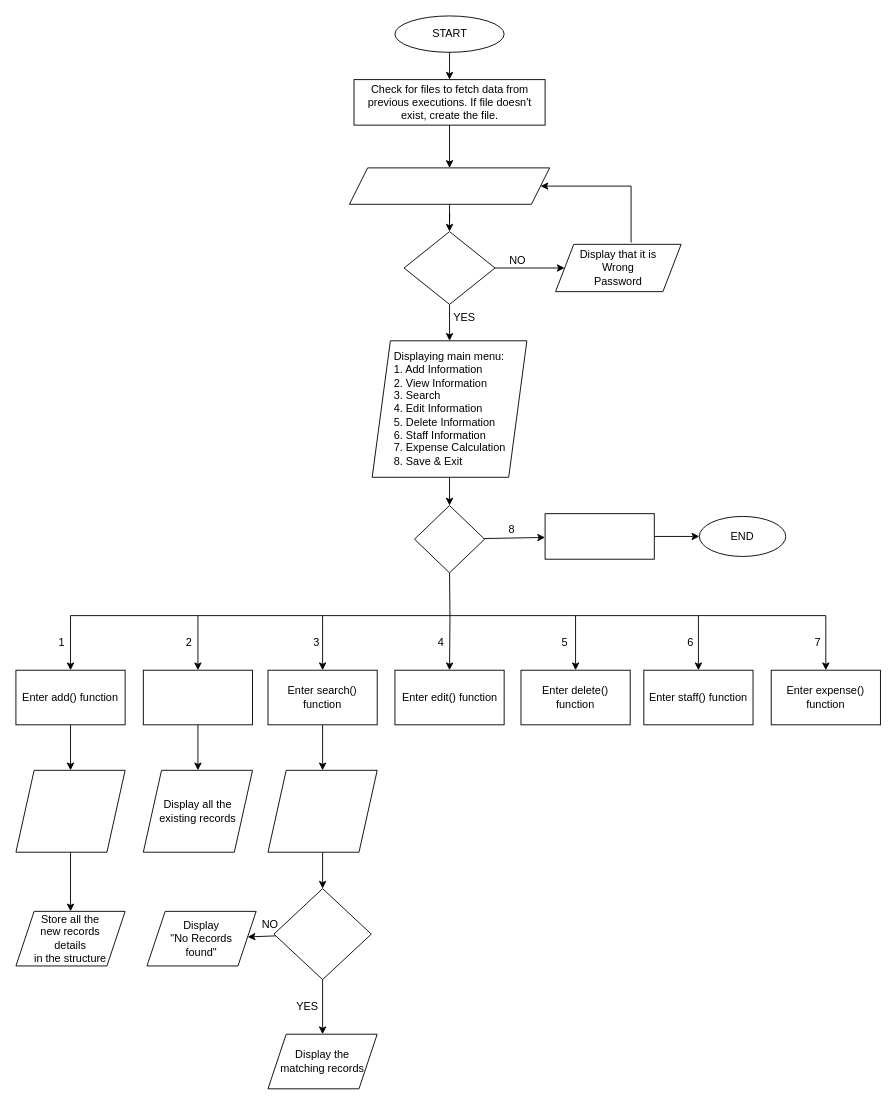
This 896x1105 diagram has some shape labels left out. Here are the shapes that lost their labels. From the top down, the box of each, then its label:
(349, 167, 550, 204): Prompting the user to Enter administrator password
(403, 231, 495, 304): Password is correct
(414, 505, 485, 573): Read user input choice
(544, 513, 654, 559): Save the data of current execution in a file "records.txt"
(142, 669, 253, 725): Enter view() function
(15, 769, 125, 852): Display the No. of existing records and ask to enter No. of new records
(267, 769, 377, 852): Prompt the user to enter the search term
(273, 888, 371, 980): Records matching the search term found
